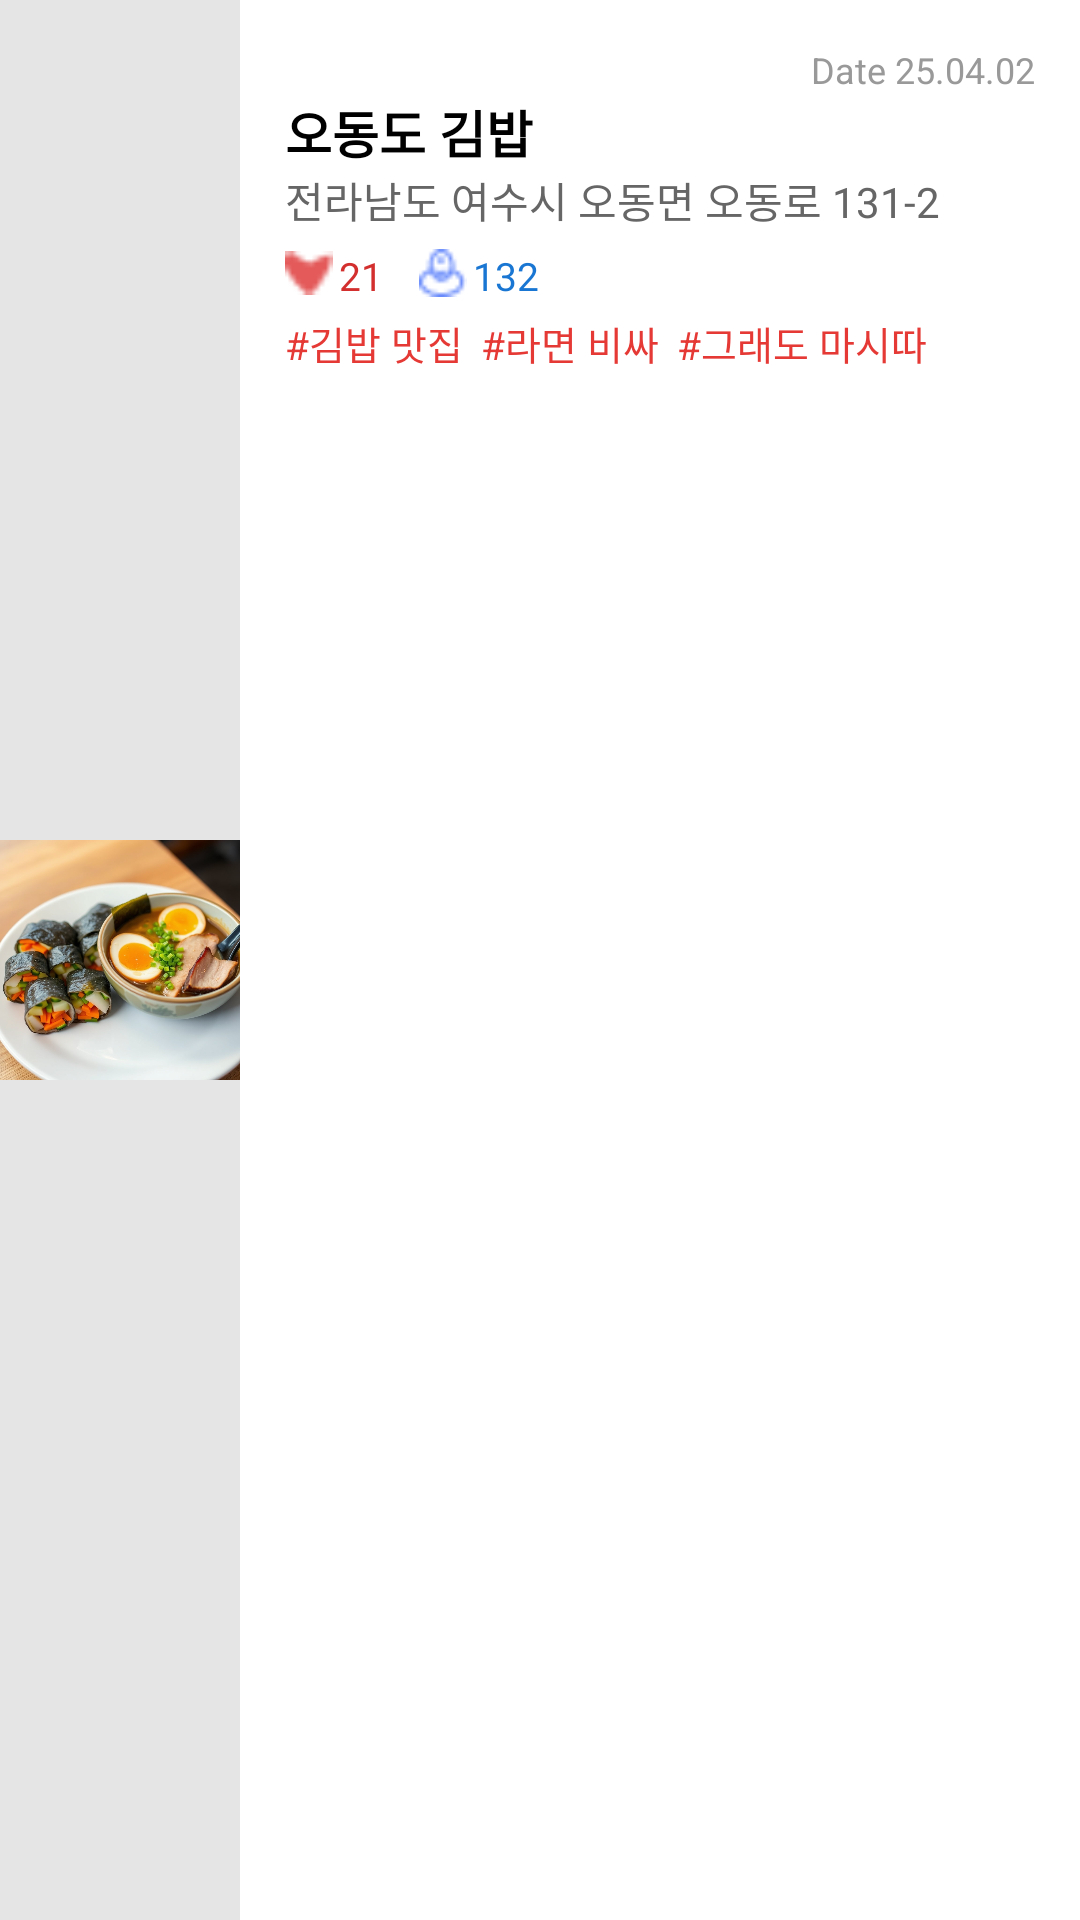

Icons on this 1080×1920 Android screen, each with its box as [x1, y1, x2, y2]:
heart: [285, 251, 333, 295]
people: [419, 249, 465, 297]
